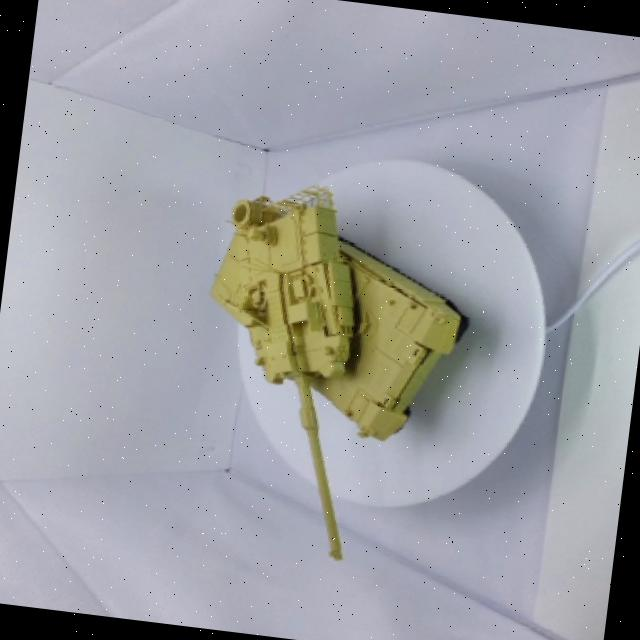korea tank: (150, 158, 507, 585)
